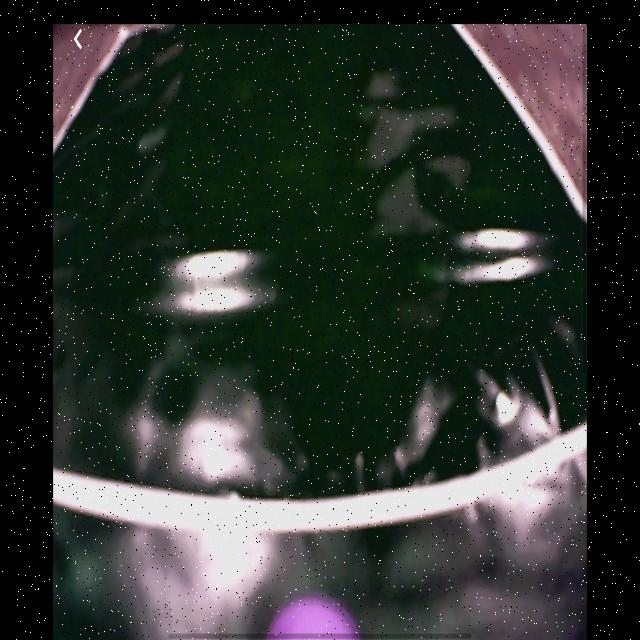ball: (266, 593, 362, 639)
